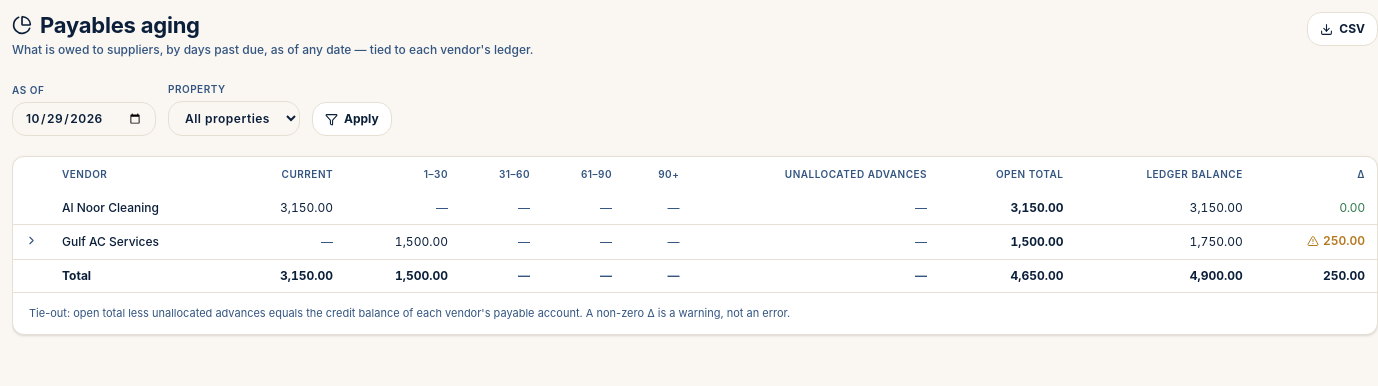
Scenario: payables aging › shows the buckets, the tie-out and a drill to the ledger when Δ is not zero
Check: the row with test id "aging-row-gulf" shows "Gulf AC Services", box [62,234,159,249]
Check: the row with test id "aging-row-gulf" shows "1,500.00", box [395,234,448,249]
# Expanding shows the invoice in its bucket.
Click the button named "Show invoices" at {"x": 32, "y": 240}, box [25,234,38,247]
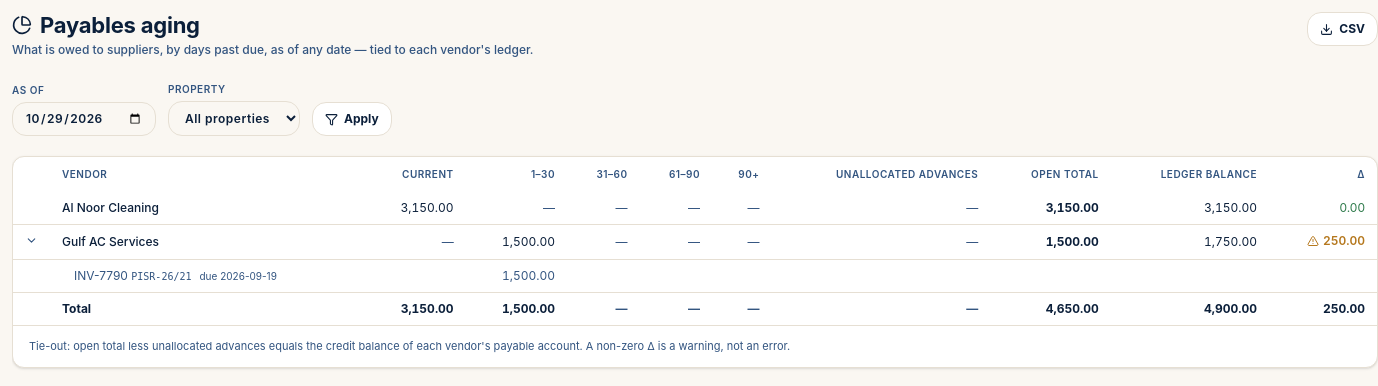
Check: the text "INV-7790 PISR-26/21due 2026-09-19" is shown, box [50,260,364,293]
